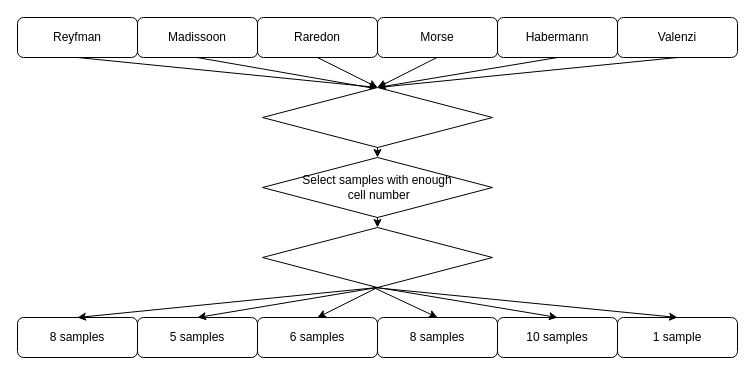
Some shapes in this 755 by 375 pixel diagram are drawn without their labels. Each missing label, with the centre of its shape:
"Remove duplicated samples" belongs at [377,257].
"Select healthy/ control" belongs at [377,117].
